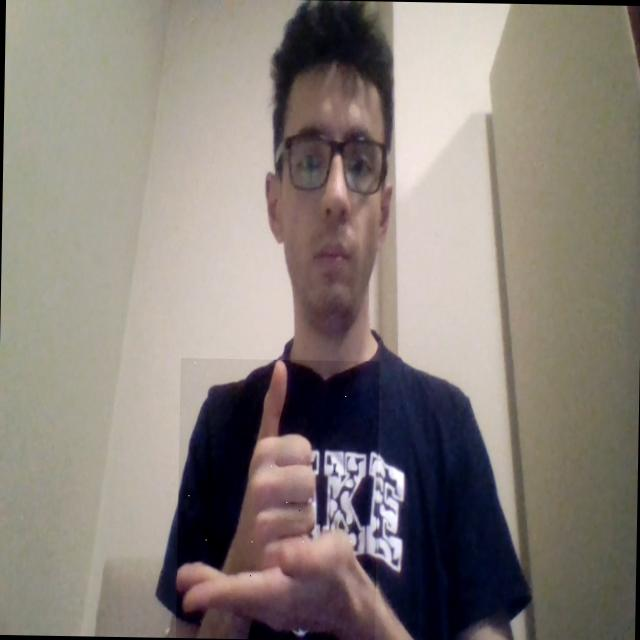help: (176, 358, 381, 640)
